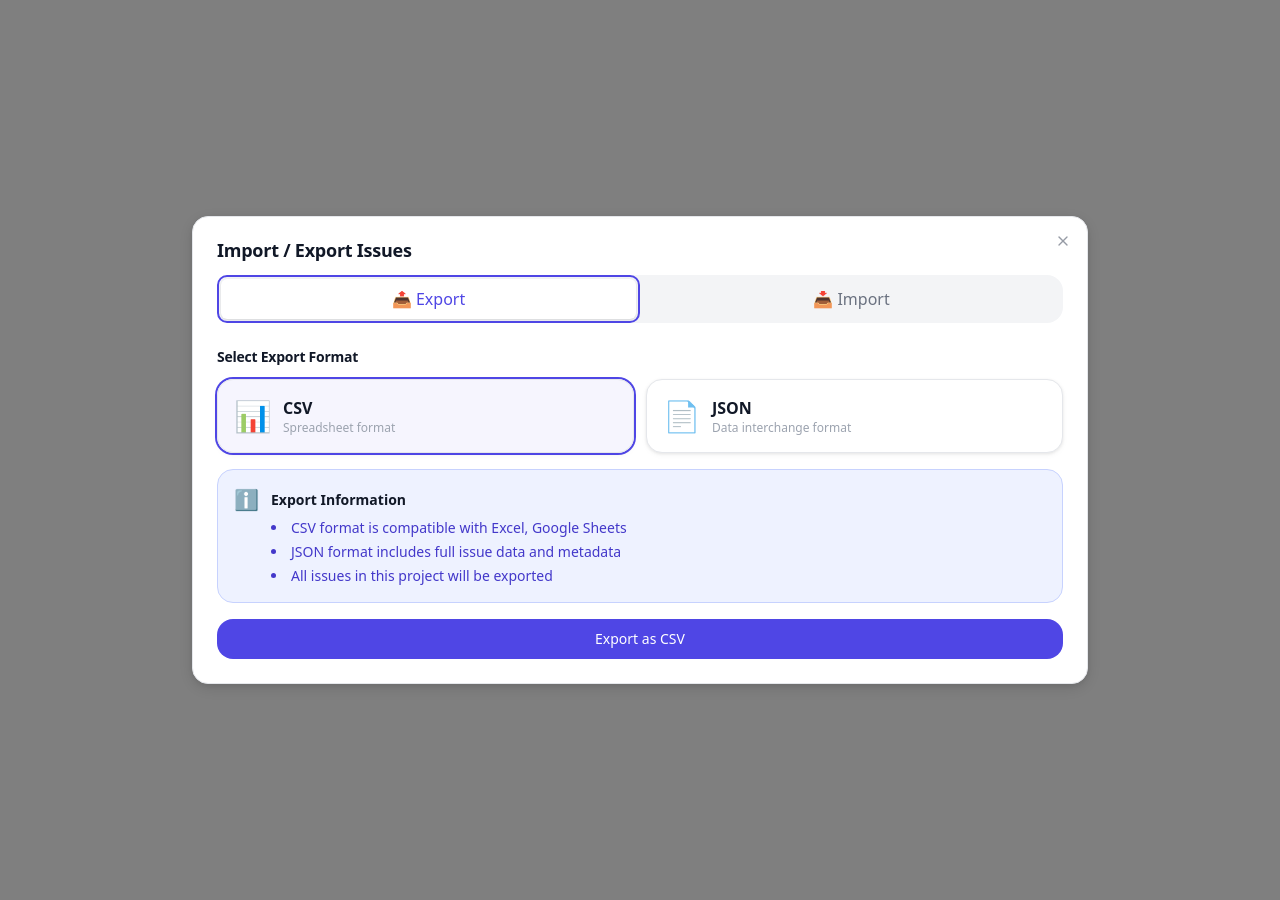
Test: ImportExportModal - Component Behavior › Mode Switching Logic › should switch to import mode when Import button clicked
Click the button "📥 Import" at (852, 299), box [644,279,1059,319]
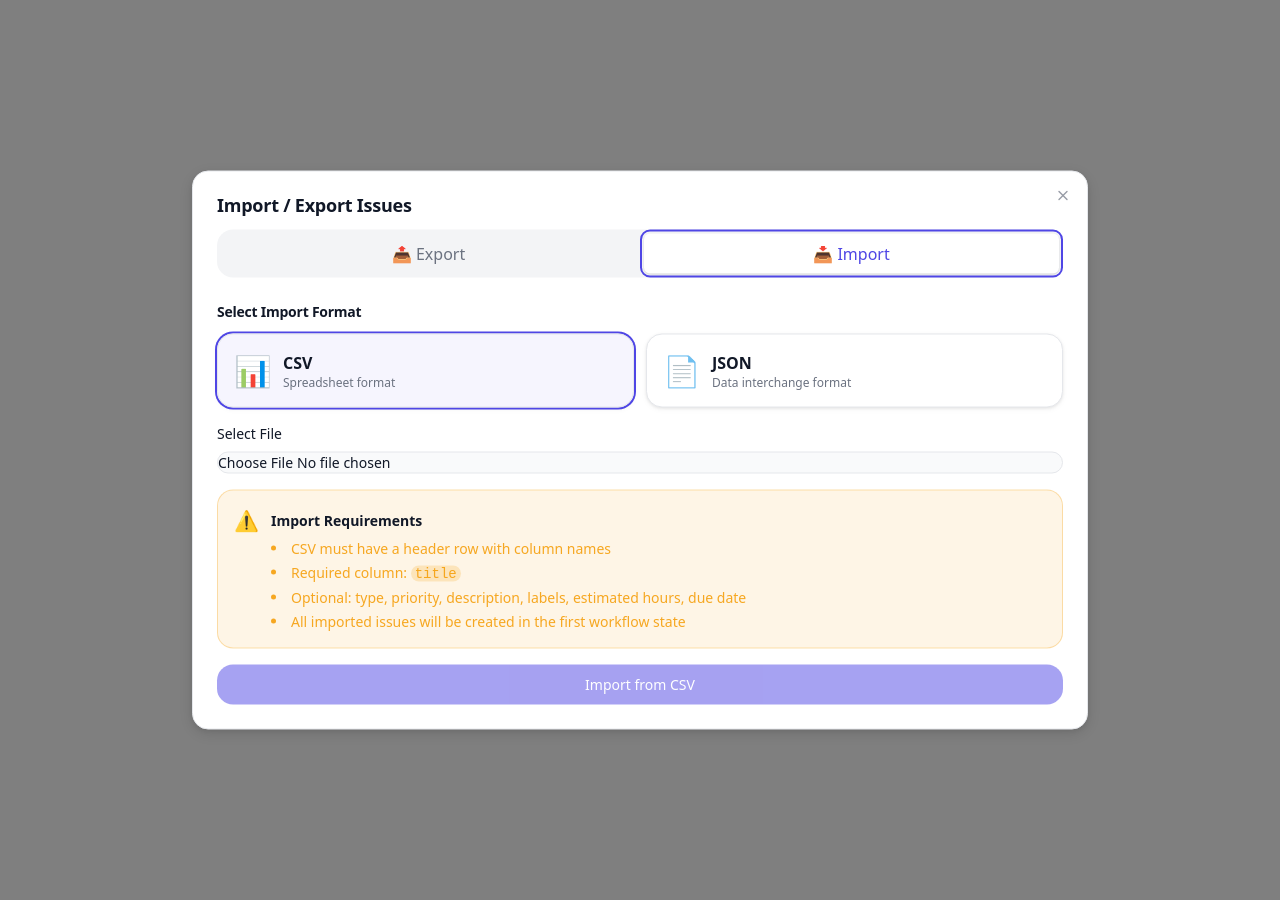
Check: the heading "Select Import Format" is shown, box [217,302,361,320]
Check: the heading "Select Export Format" is gone
